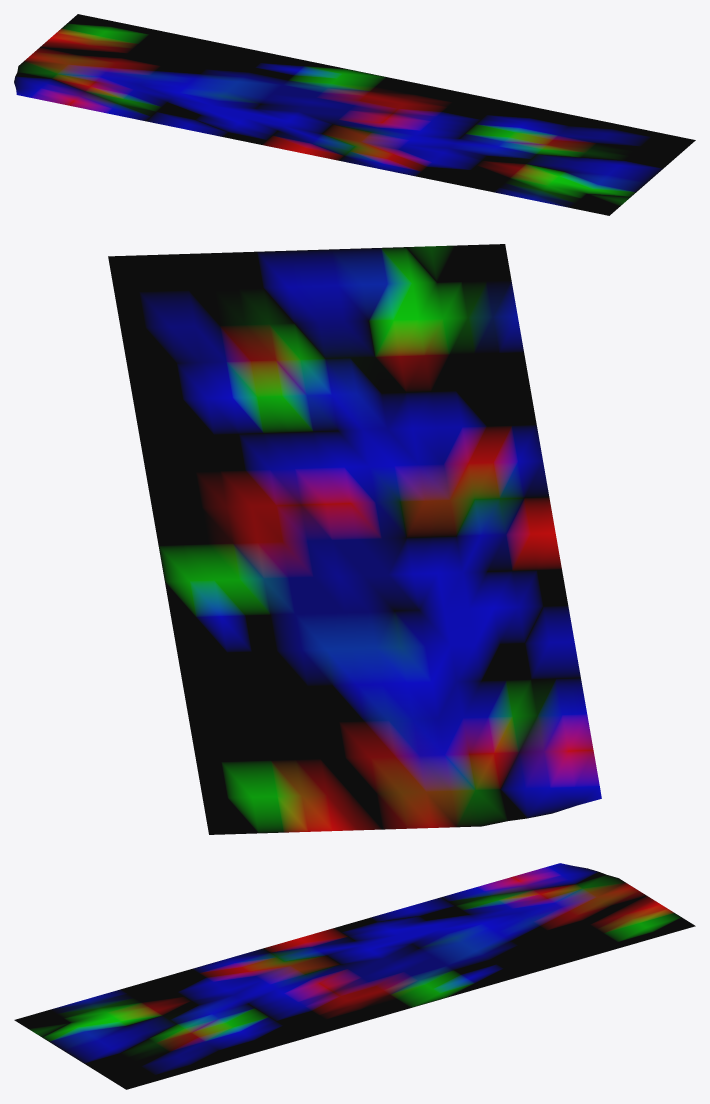
The picture shows the model from 3 angles, top to bottom: view 1: azimuth 30°, elevation 25°; view 2: azimuth 150°, elevation 25°; view 3: azimuth 270°, elevation 25°; orthographic projection. The views are drawn at different scales.
Parts seen in each view (by area): view 1: Sprite; view 2: Sprite; view 3: Sprite.
Part boxes in pixels (bbox=[...]): Sprite: bbox=[14, 14, 695, 215]; Sprite: bbox=[108, 244, 601, 834]; Sprite: bbox=[14, 863, 695, 1089].
Bounding box in the file's own units: 1821 × 0.000763 × 2315.
